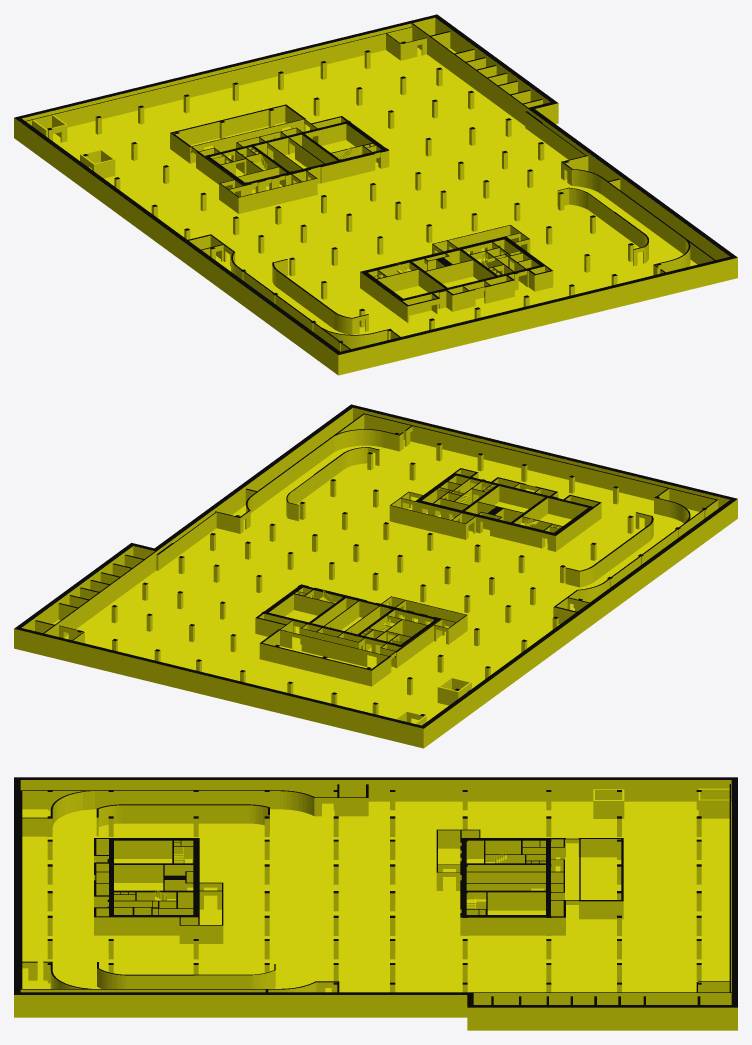
File: sm_hana_building_b3f.glb
The picture shows the model from 3 angles, top to bottom: view 1: azimuth 30°, elevation 25°; view 2: azimuth 150°, elevation 25°; view 3: azimuth 270°, elevation 25°; orthographic projection. The views are drawn at different scales.
Visible parts, largest first — view 1: sm_hana_building_b3f; view 2: sm_hana_building_b3f; view 3: sm_hana_building_b3f.
Boxes of the visible parts, x1=… form: sm_hana_building_b3f: x1=14, y1=14, x2=737, y2=375; sm_hana_building_b3f: x1=14, y1=404, x2=737, y2=748; sm_hana_building_b3f: x1=14, y1=777, x2=737, y2=1030.
Bounding box in the file's own units: 86.61 × 4.69 × 115.
Materials: 4 (2 with a texture image).
